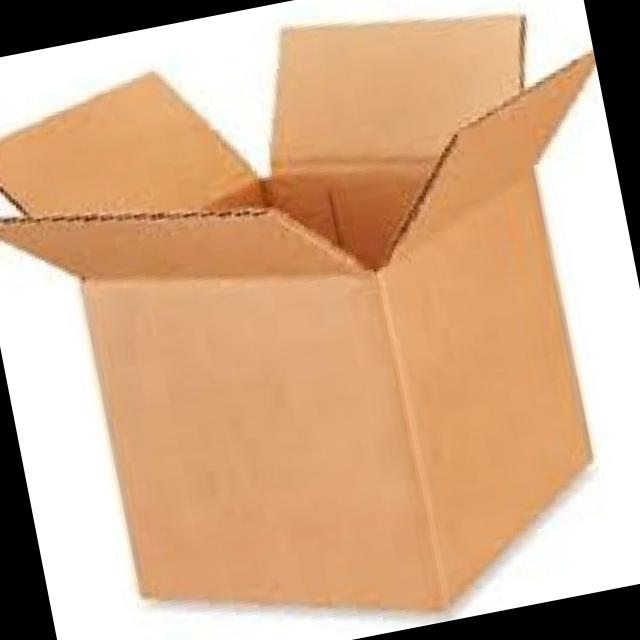cardboard paper: (0, 12, 596, 607)
